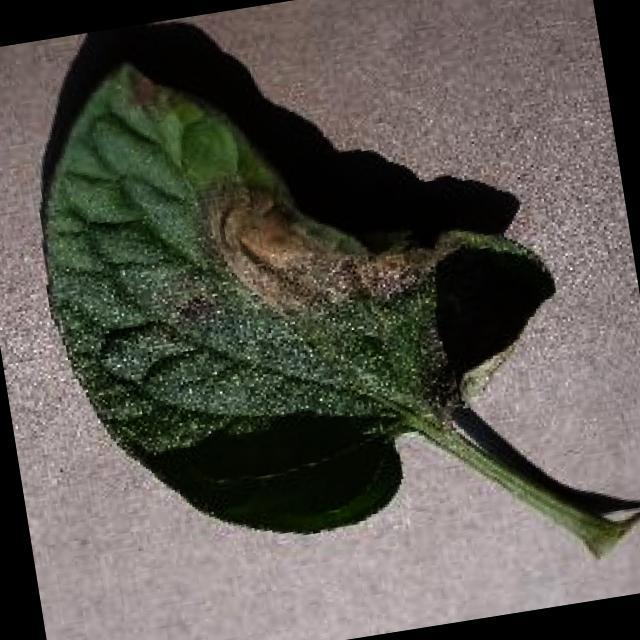Tomato late blight leaf: (12, 0, 593, 570)
